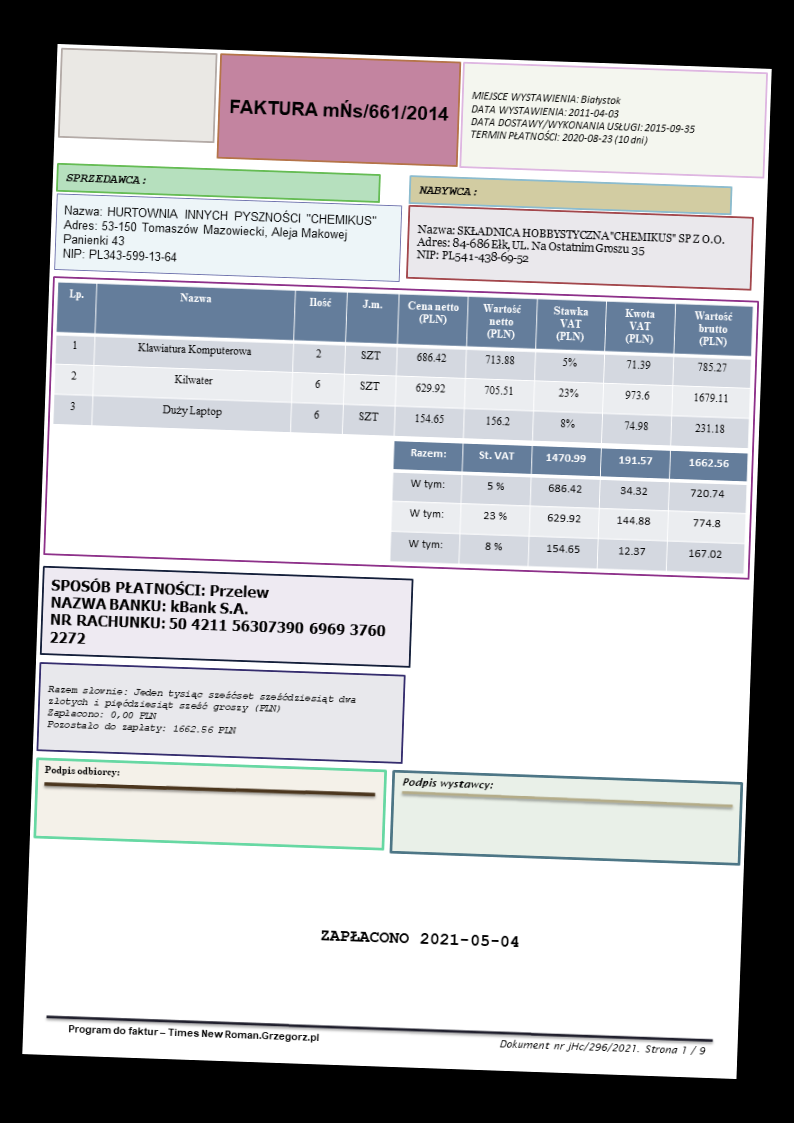Table: (52, 281, 754, 450), (388, 439, 749, 575)
TextBox: (46, 575, 388, 658), (60, 201, 379, 272), (44, 681, 359, 742), (414, 220, 727, 274), (468, 88, 698, 148), (228, 94, 451, 123), (66, 1022, 321, 1046), (319, 926, 522, 951), (497, 1036, 707, 1058), (400, 775, 495, 792), (64, 171, 148, 187), (43, 762, 120, 779), (416, 184, 479, 198)
